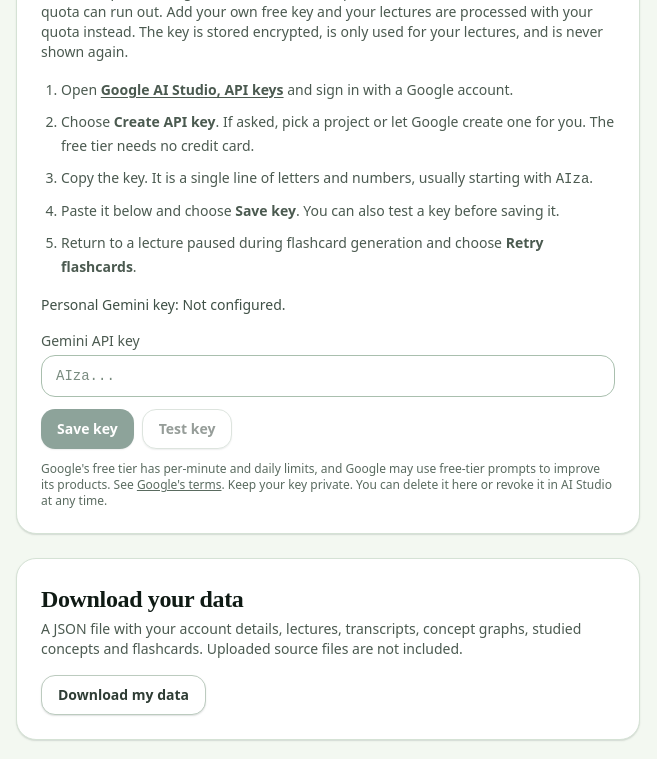
Test case: Settings page › saves a Gemini key, shows only the last four characters and never echoes the key
(page scrolled)
Expected: the button "Save key" is disabled, [41,409,134,449]
Type "AIza-test-key-0000000000wxyz" into the password field labelled "Gemini API key" at [328, 376], box [41,355,615,397]
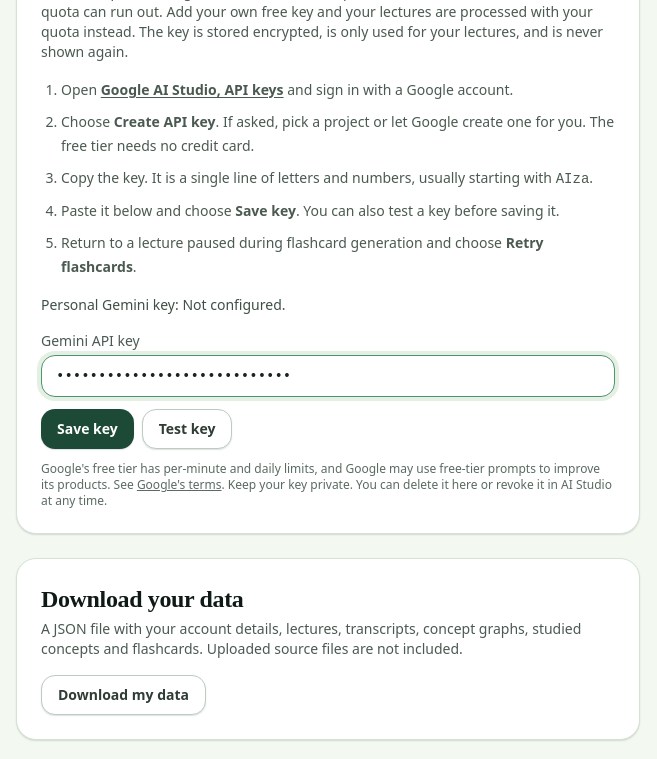
Click the button "Save key" at [87, 429], box [41,409,134,449]
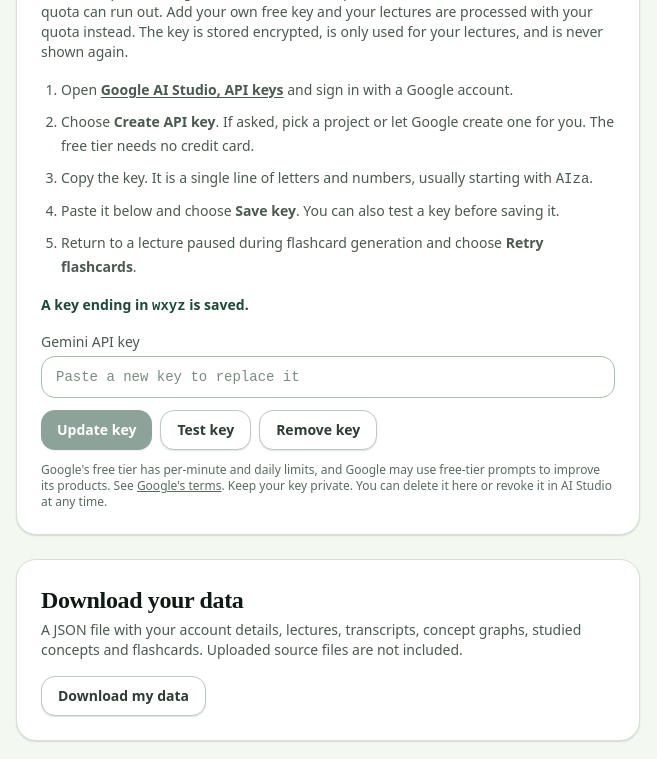
Expected: the message shows "wxyz", [152,298,186,314]
Expected: the password field labelled "Gemini API key" is empty, [41,356,615,398]
Expected: the button "Remove key" is shown, [259,410,377,450]
